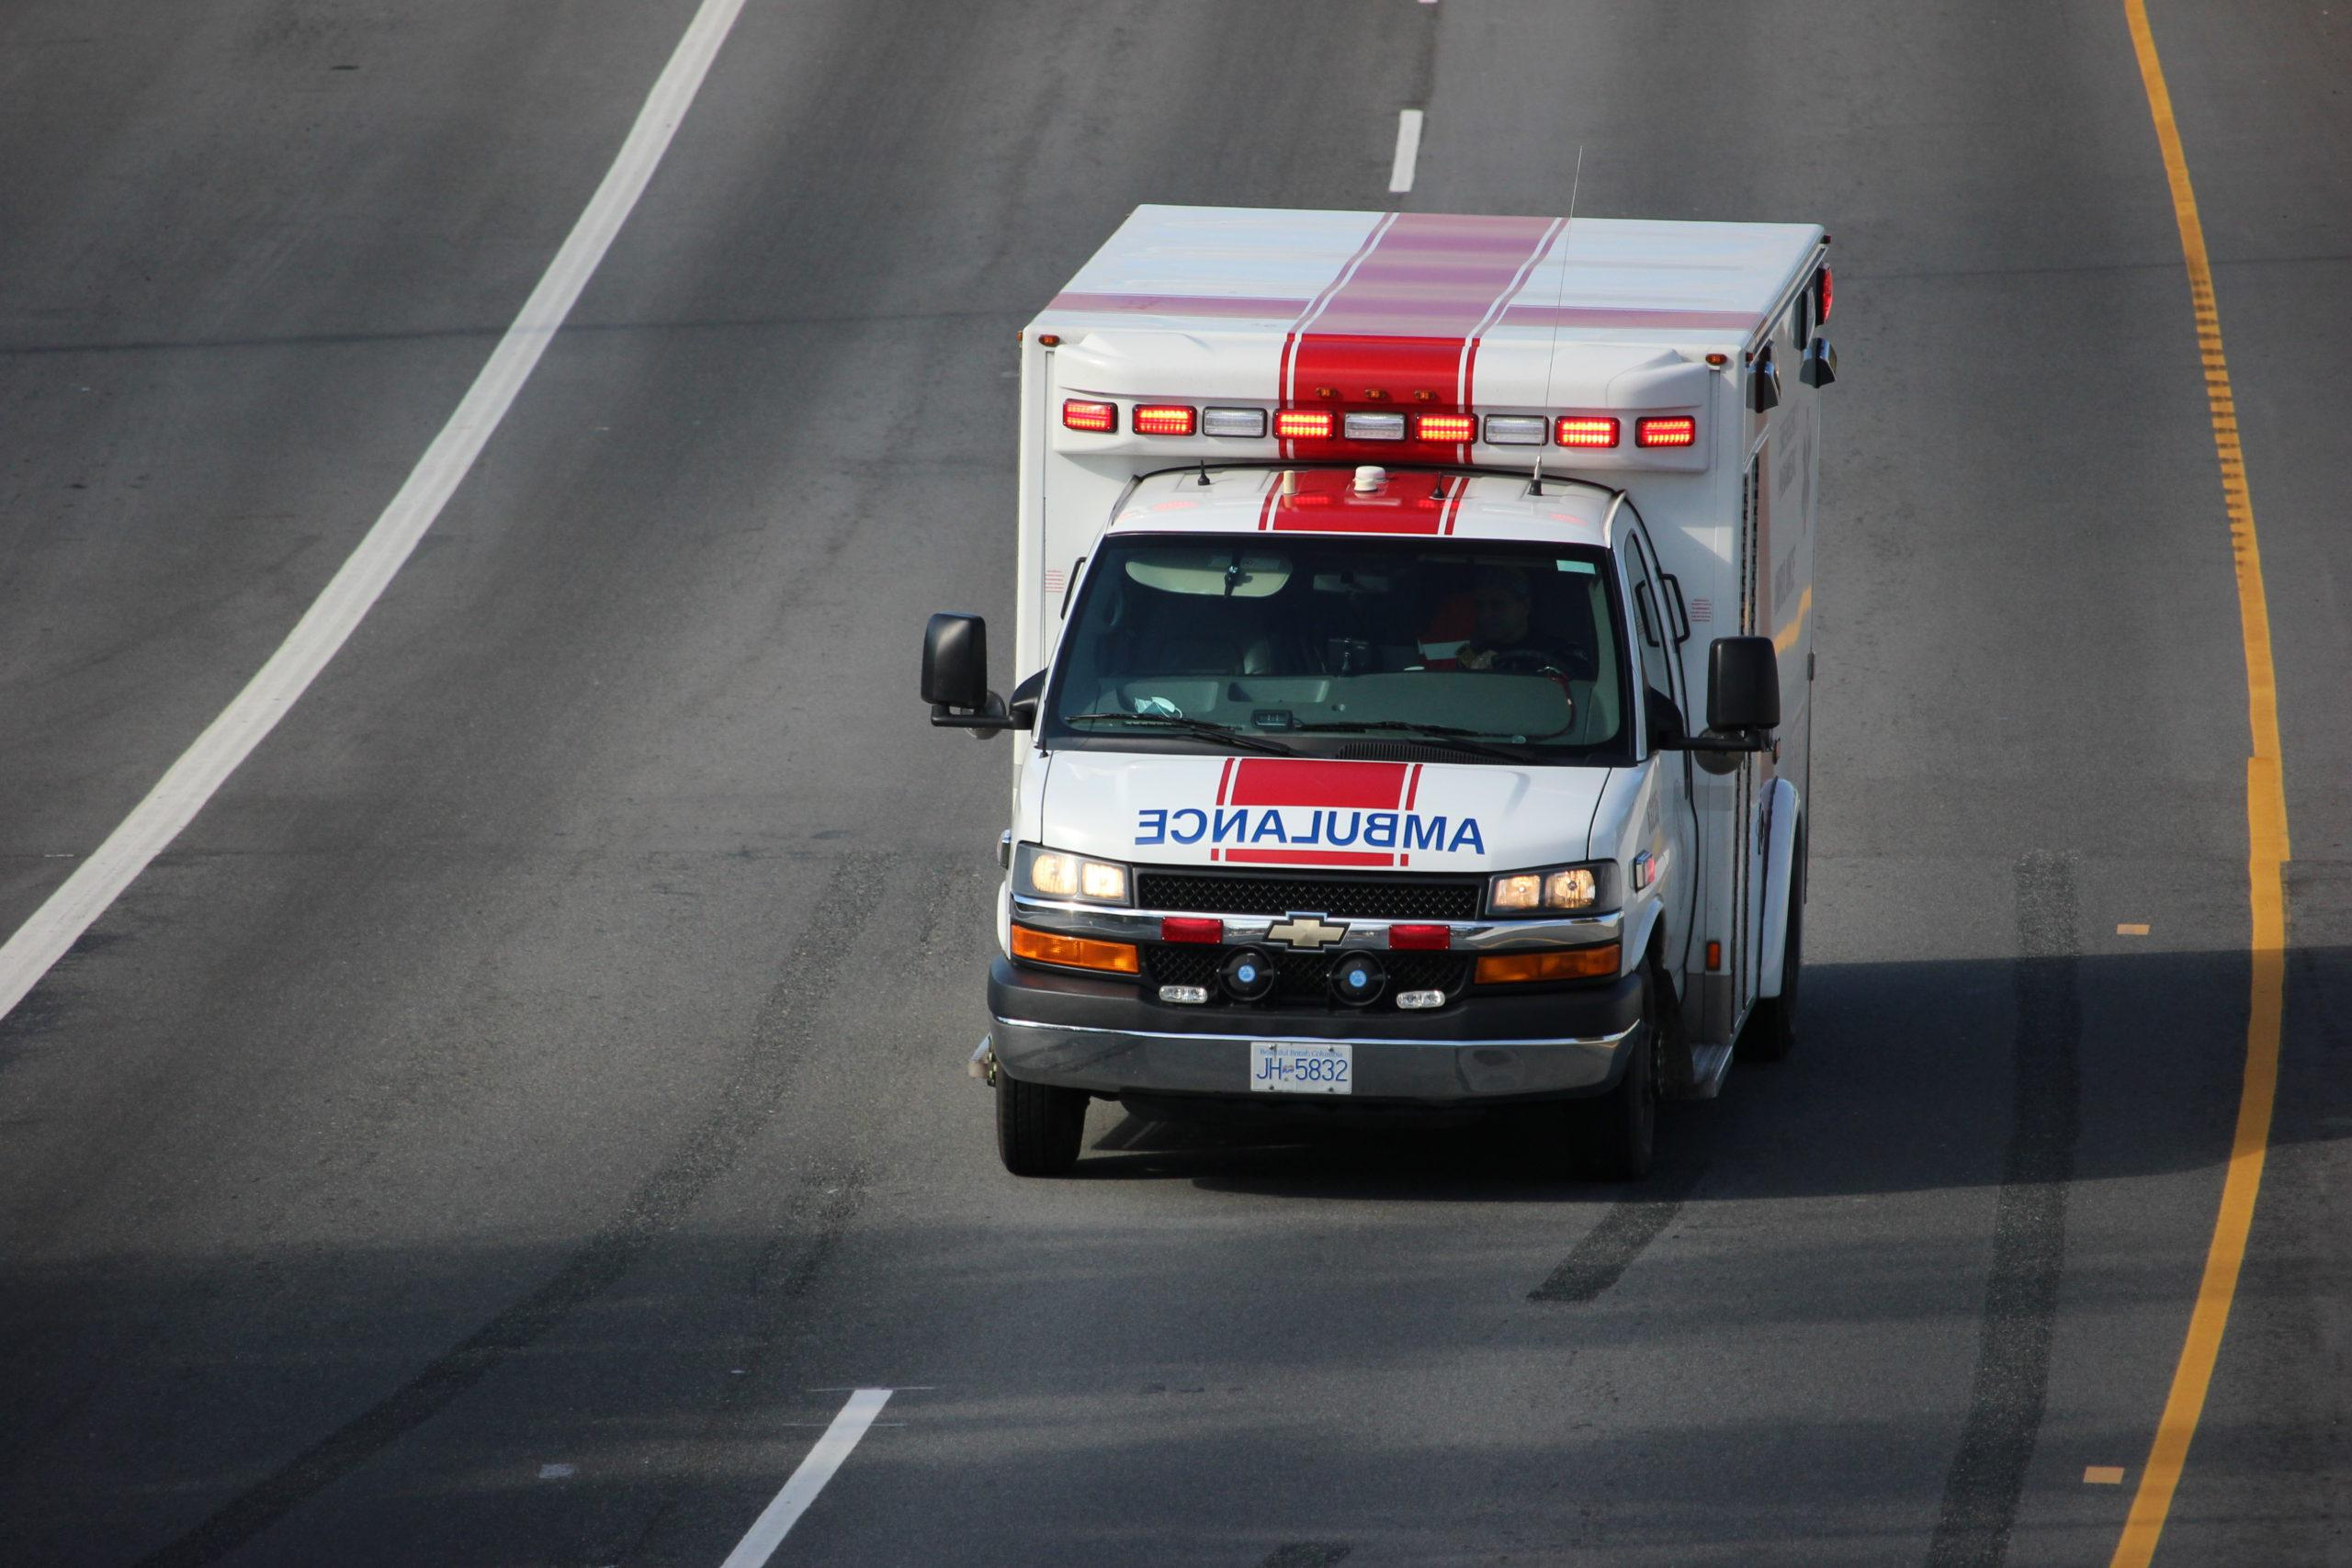ambulance_on: (920, 203, 1832, 1174)
